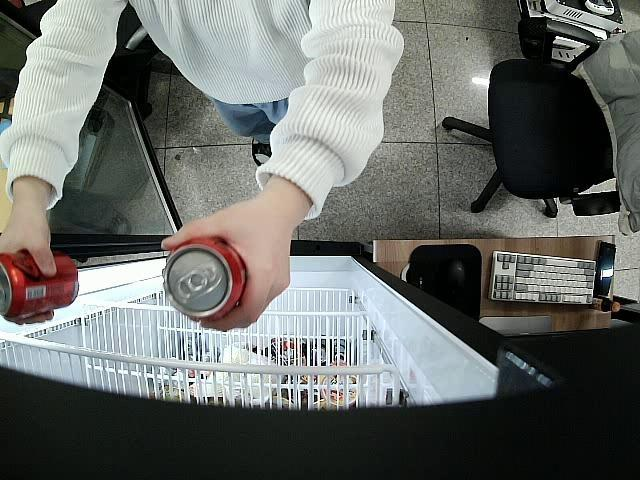11_cocaColaZero: (160, 239, 248, 327), (0, 248, 80, 319)
